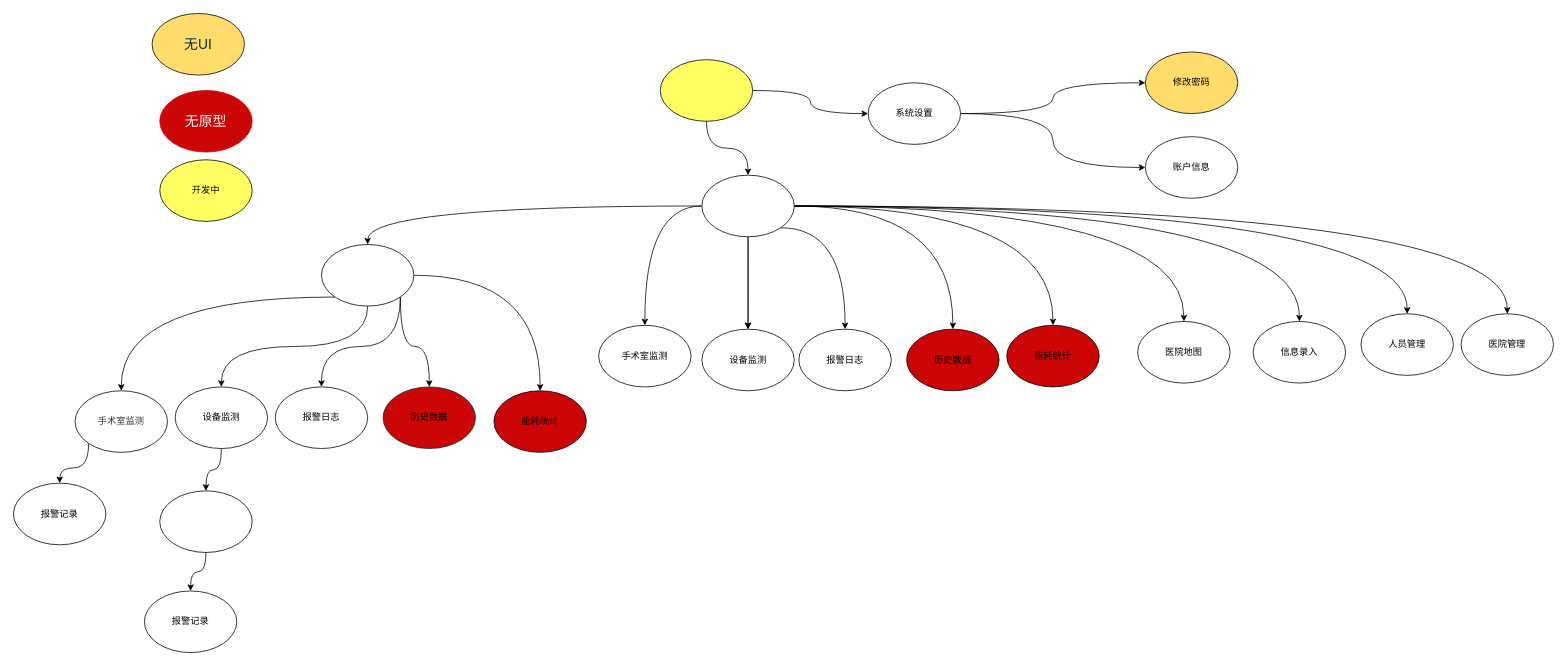
The diagram is 1567 pixels wide and 666 high, and some of its shapes have lost their labels. Each missing label, with the centre of its shape:
"个人中心" goes at (747,205).
"医院总览" goes at (367,275).
"报警情况" goes at (205,521).
"登录页" goes at (706,90).
